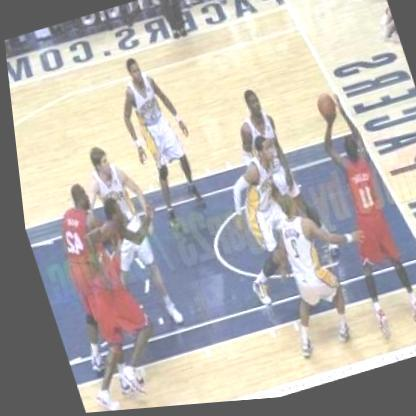basketball: (305, 88, 342, 131)
